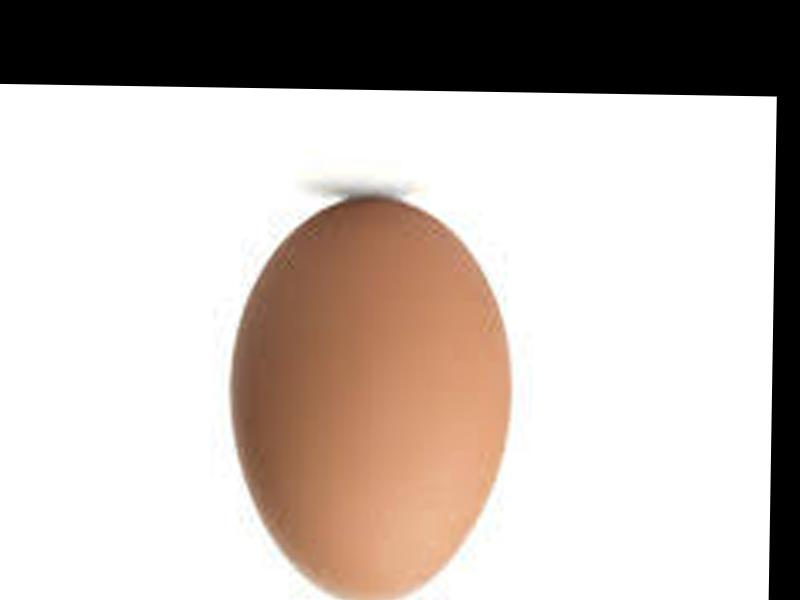Eggs: (228, 192, 511, 600)
